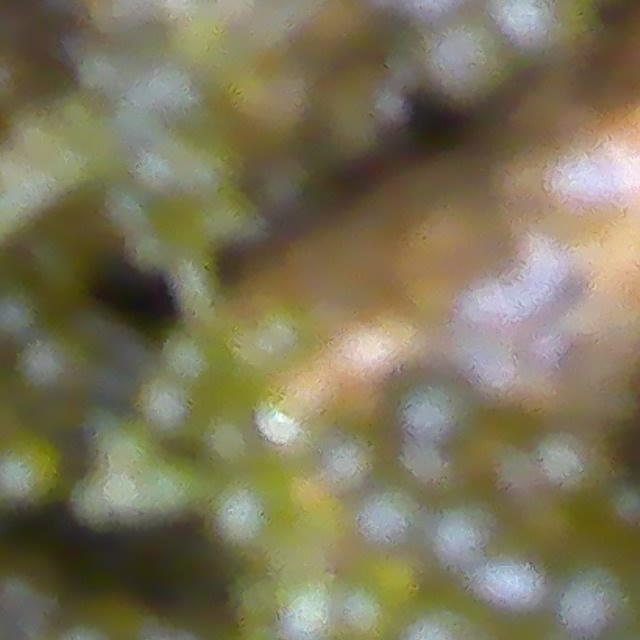SeaGrape: (418, 20, 510, 114), (492, 0, 580, 58), (0, 428, 64, 503), (356, 483, 418, 546), (432, 503, 489, 565)
